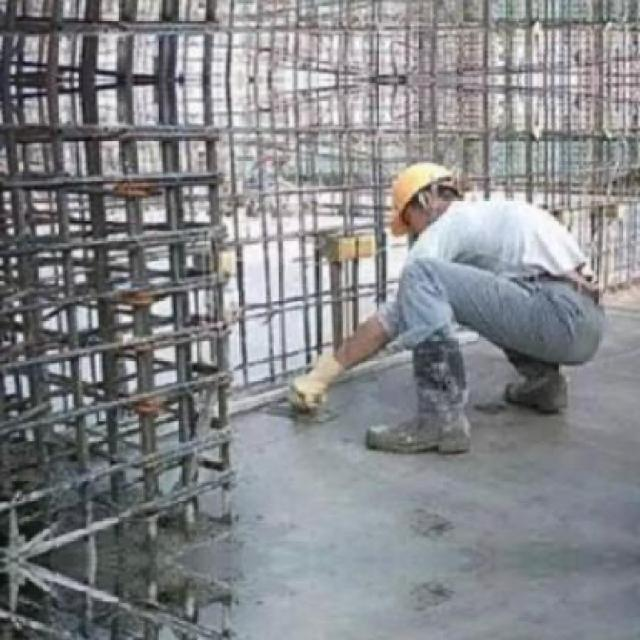helmet: (384, 154, 468, 238)
